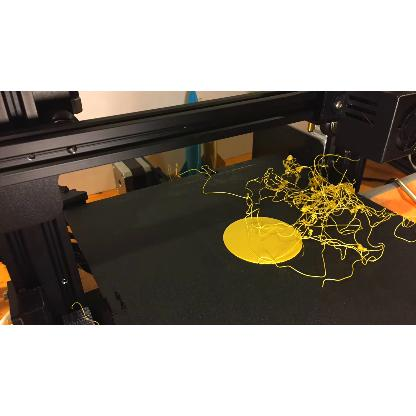fail: (243, 148, 415, 290)
